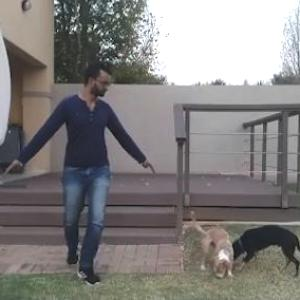land: (1, 52, 169, 288)
